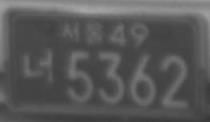2: (158, 53, 189, 111)
3: (96, 49, 126, 106)
4: (107, 20, 130, 49)
5: (64, 48, 95, 104)
6: (128, 50, 158, 109)
9: (129, 20, 151, 48)
너: (20, 48, 55, 86)
서울_O: (58, 18, 107, 46)
